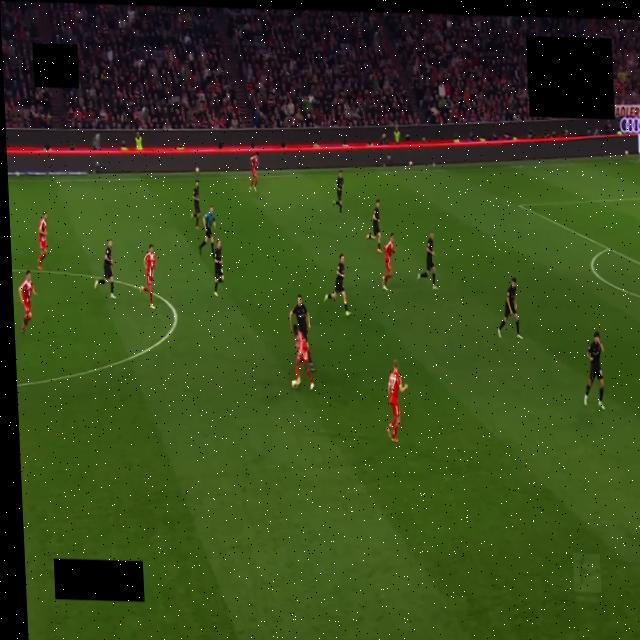ball: (292, 380, 297, 387)
player: (387, 360, 408, 442), (325, 254, 351, 316), (584, 332, 604, 409), (498, 278, 522, 339), (293, 325, 314, 390), (94, 240, 115, 298), (418, 231, 437, 290), (19, 271, 36, 332), (290, 295, 310, 344), (141, 244, 156, 309), (366, 199, 381, 252), (212, 239, 225, 297), (382, 234, 394, 290), (38, 211, 47, 270), (333, 171, 343, 216), (191, 181, 200, 229), (250, 151, 259, 191)
referee: (199, 206, 215, 256)
